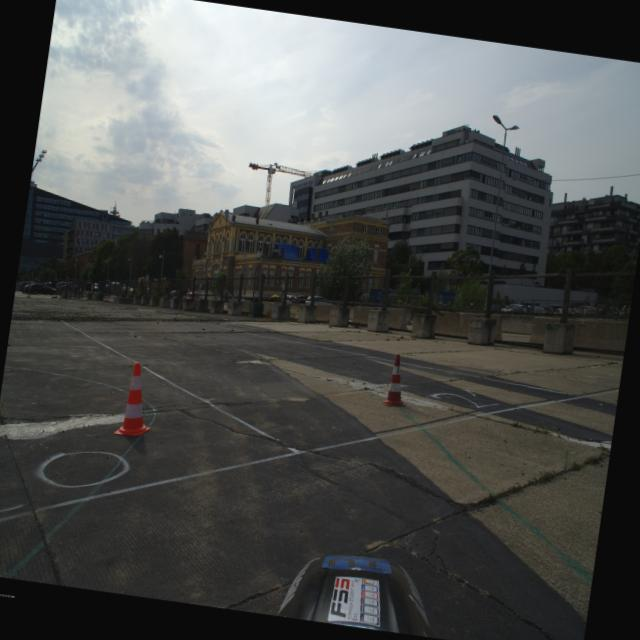large_orange_cone: (114, 361, 159, 439), (382, 354, 412, 408)
